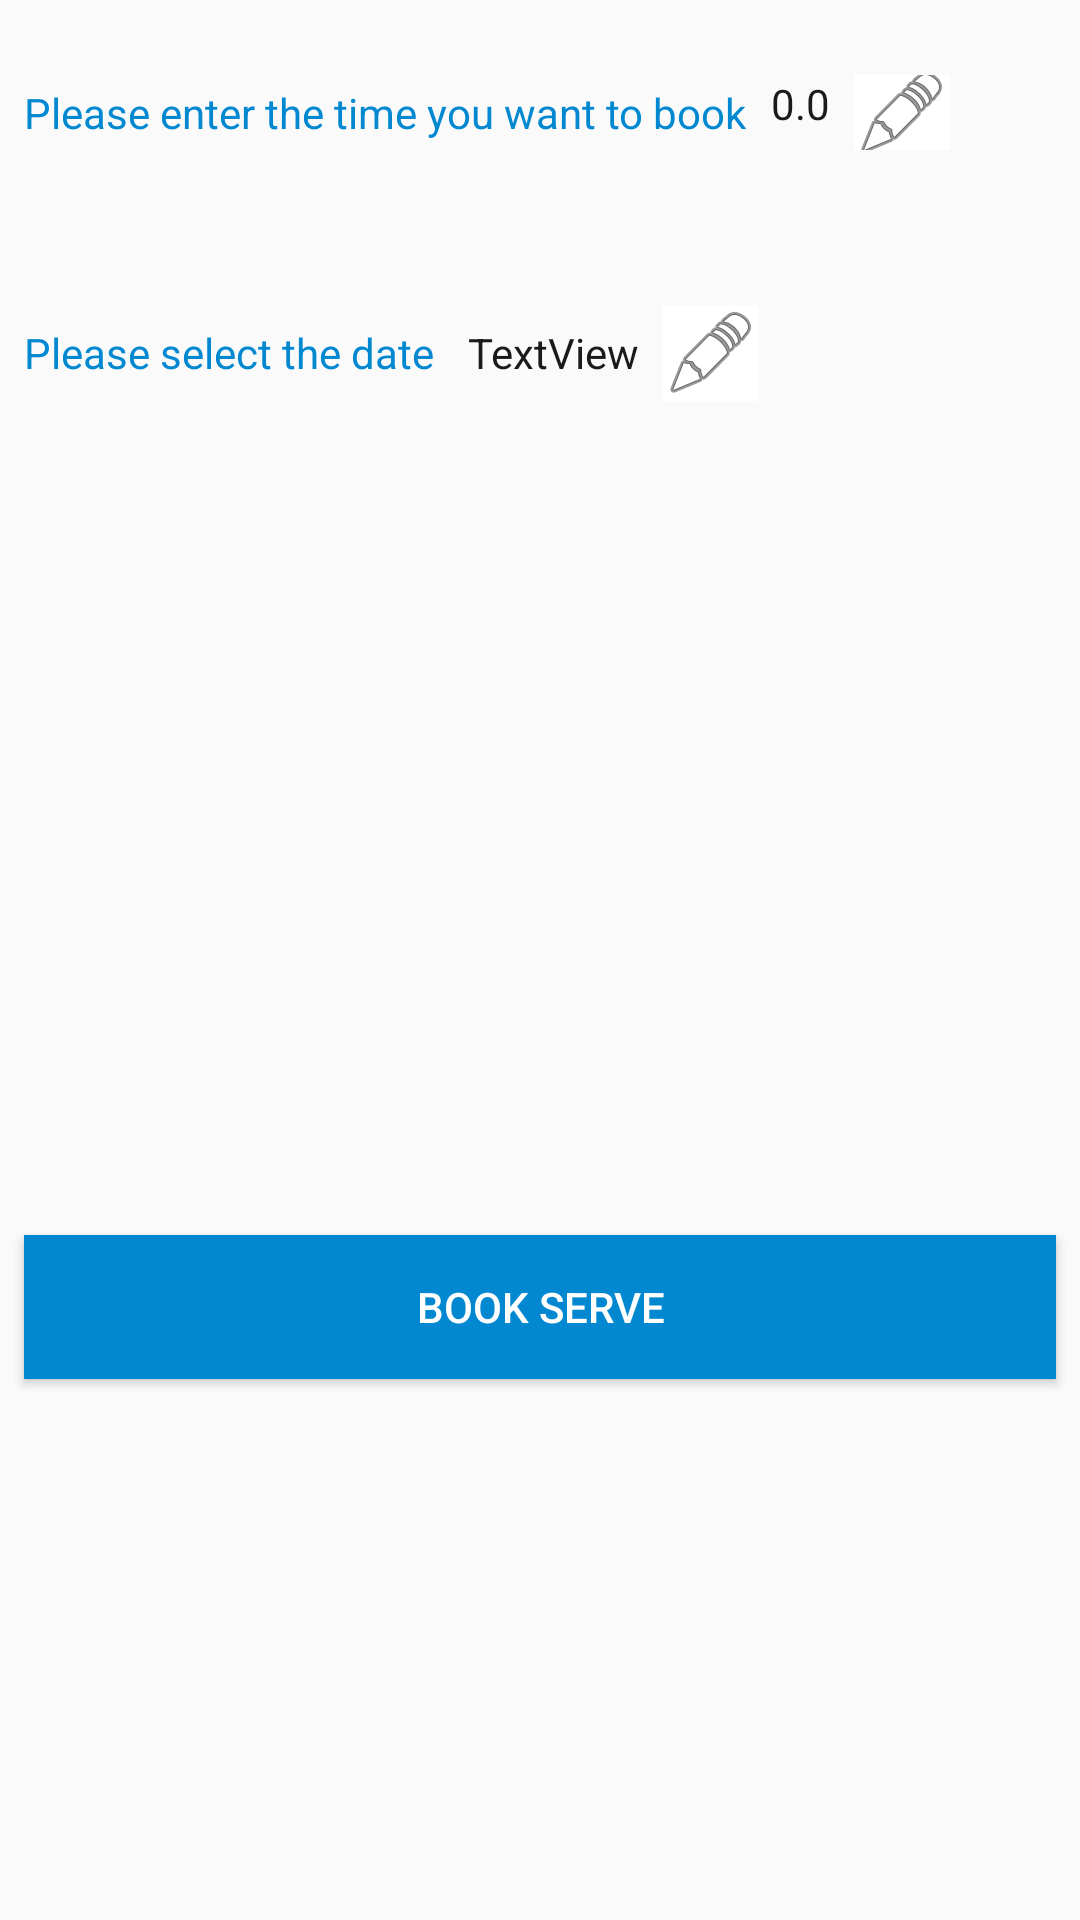

Icon bounding boxes for this 1080px x 1920px phone screenshot, format (x1, y1, x2, y2):
edit: (861, 75, 942, 150), (670, 312, 751, 393)
